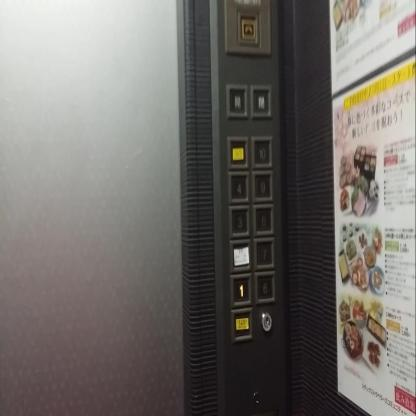1: (228, 271, 252, 309)
10: (249, 134, 273, 170)
3: (228, 204, 250, 239)
4: (228, 170, 250, 206)
6: (254, 271, 275, 305)
7: (253, 236, 274, 272)
8: (252, 200, 274, 238)
9: (251, 169, 273, 203)
blur: (228, 132, 250, 172), (229, 308, 253, 343), (229, 238, 251, 274)
call: (237, 9, 262, 47)
keyhole: (261, 310, 272, 334)
text: (225, 82, 249, 120), (250, 82, 272, 119)
